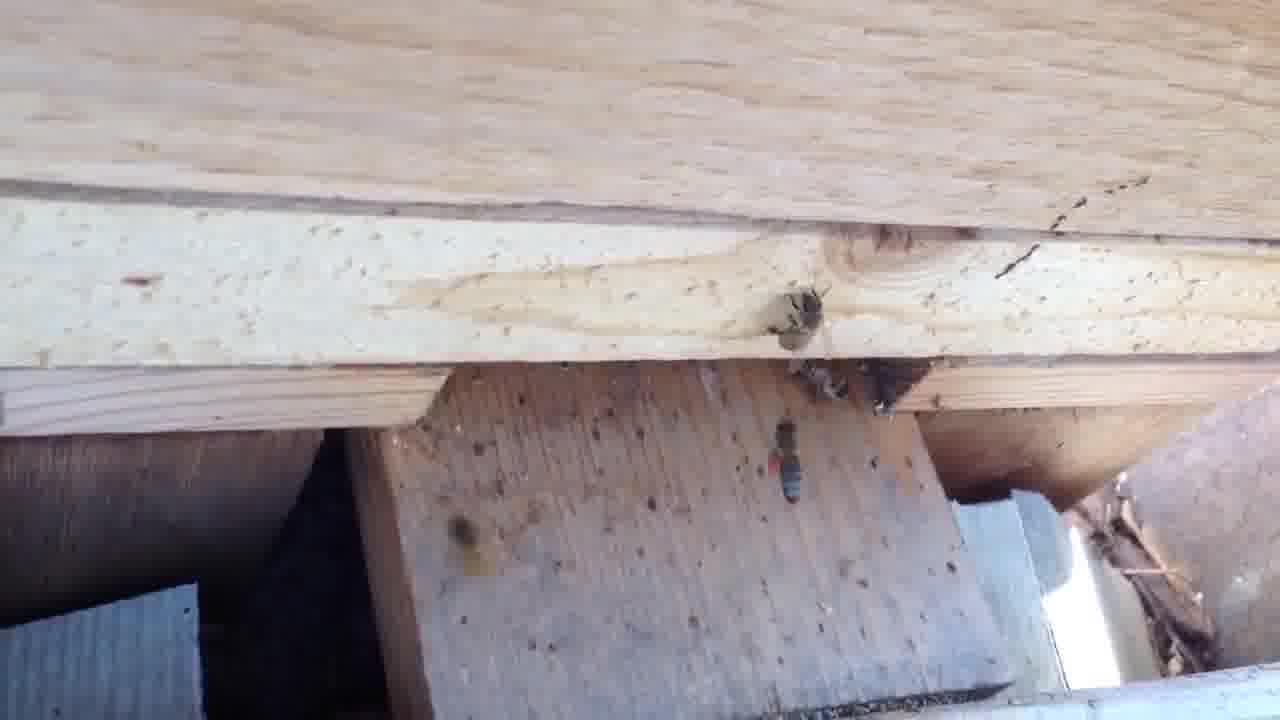pollen: (753, 414, 811, 514)
